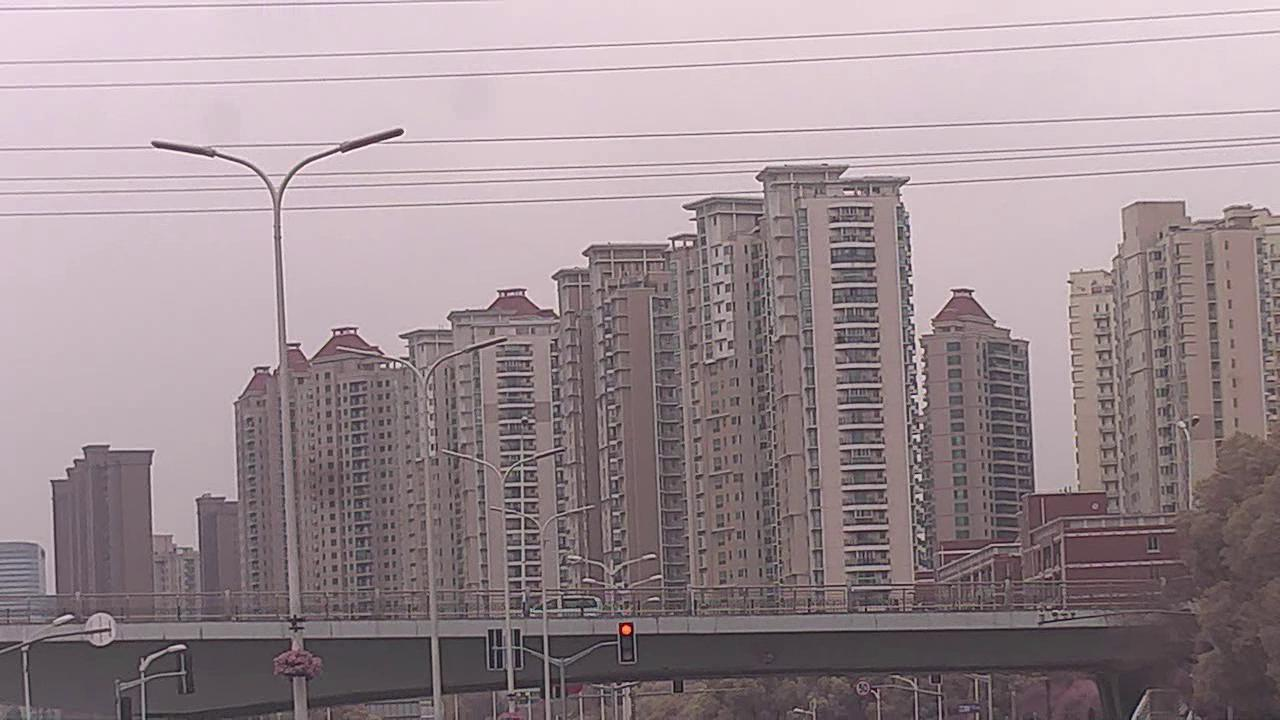traffic_light: (616, 623, 636, 667)
